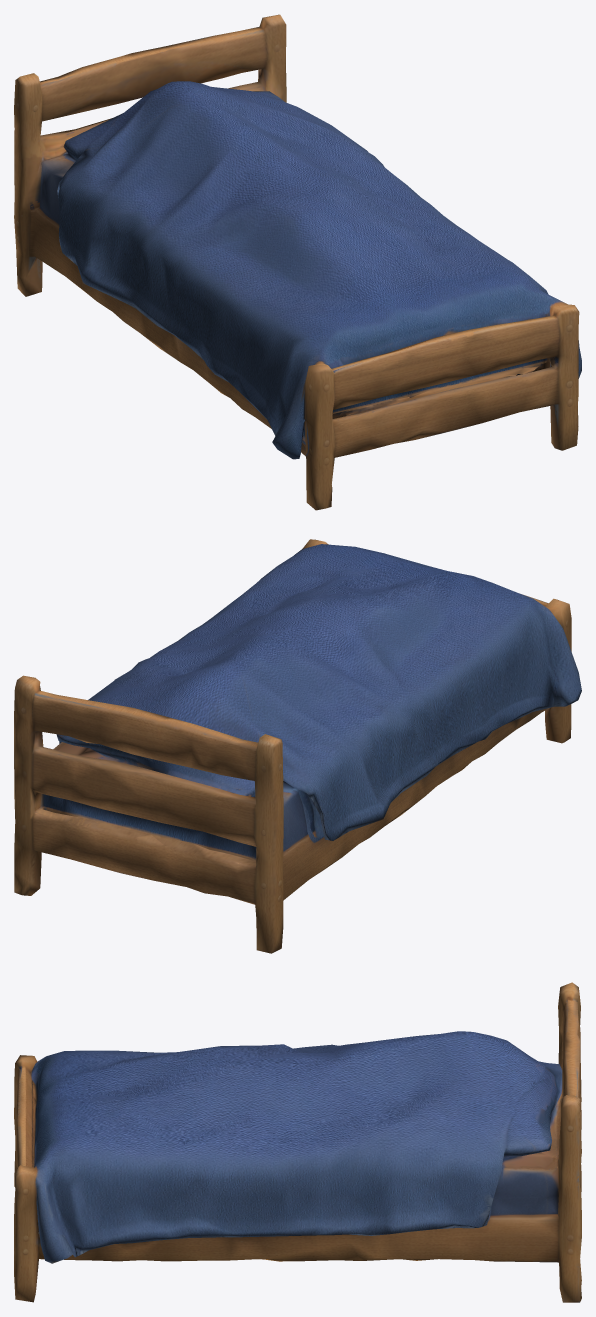
File: VAR_Bedroom_Bed_BlanketFigure.fbx
3 renders of one model, top to bottom at view 1: azimuth 30°, elevation 25°; view 2: azimuth 150°, elevation 25°; view 3: azimuth 270°, elevation 25°, orthographic. The views are drawn at different scales.
Parts seen in each view (by area): view 1: texture_mapping; view 2: texture_mapping; view 3: texture_mapping.
Part boxes in pixels (<box>): texture_mapping: <box>14,14,581,510</box>; texture_mapping: <box>14,539,581,953</box>; texture_mapping: <box>14,982,581,1302</box>.
Size of the model in its own units: 0.5904 by 1 by 0.3959.
Materials: 1 (1 with a texture image).
